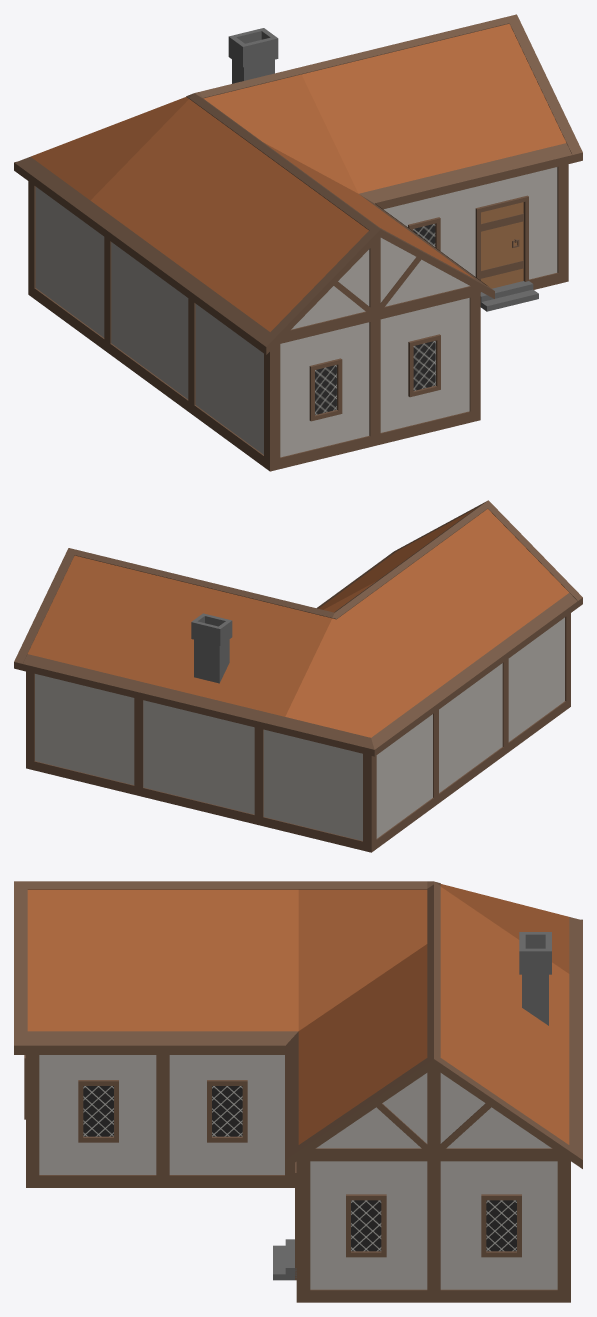
File: SPW_Medieval_Bldg_02.glb
The picture shows the model from 3 angles, top to bottom: view 1: azimuth 30°, elevation 25°; view 2: azimuth 150°, elevation 25°; view 3: azimuth 270°, elevation 25°; orthographic projection. The views are drawn at different scales.
Parts seen in each view (by area): view 1: SPW_Medieval_Bldg_02; view 2: SPW_Medieval_Bldg_02; view 3: SPW_Medieval_Bldg_02.
Part boxes in pixels (x1,y1,x2,y2): SPW_Medieval_Bldg_02: (14,14,582,471); SPW_Medieval_Bldg_02: (14,500,582,852); SPW_Medieval_Bldg_02: (14,881,582,1302).
Bounding box in the file's own units: 8.4 × 4.05 × 8.4.
Materials: 1 (1 with a texture image).
